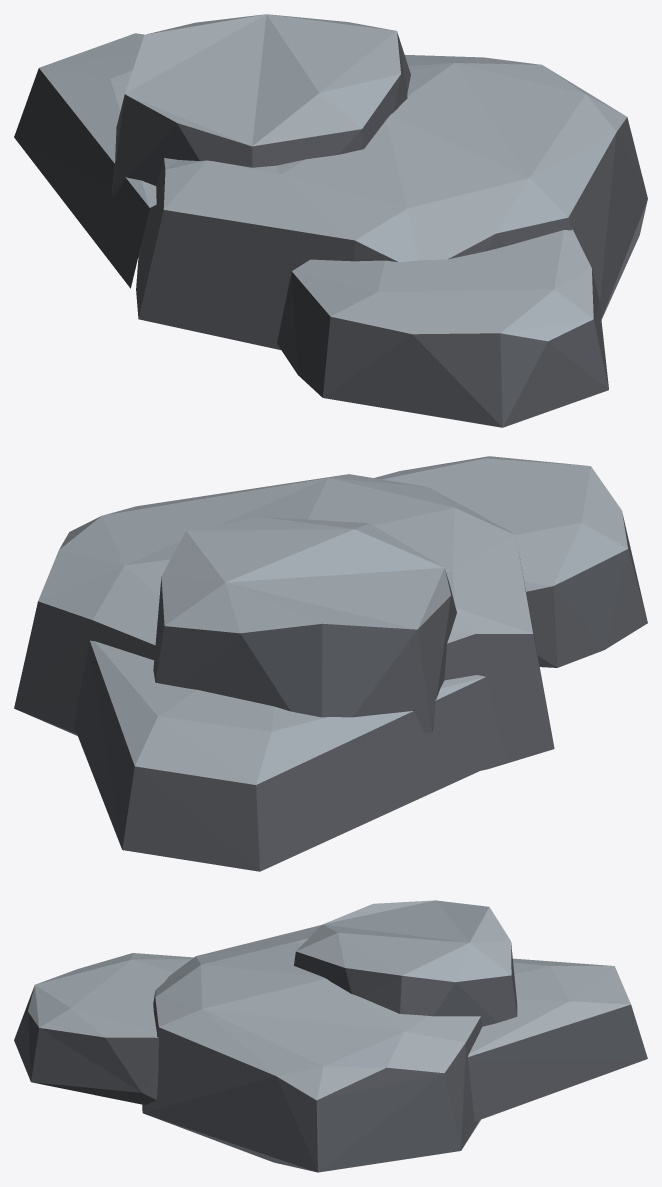
3 renders of one model, top to bottom at view 1: azimuth 30°, elevation 25°; view 2: azimuth 150°, elevation 25°; view 3: azimuth 270°, elevation 25°, orthographic. The views are drawn at different scales.
Visible parts, largest first — view 1: SK_05; view 2: SK_05; view 3: SK_05.
Part boxes in pixels (x1,y1,x2,y2): SK_05: [14, 14, 647, 427]; SK_05: [14, 456, 647, 871]; SK_05: [14, 900, 647, 1172].
Size of the model in its own units: 5.12 by 1.77 by 7.59.
